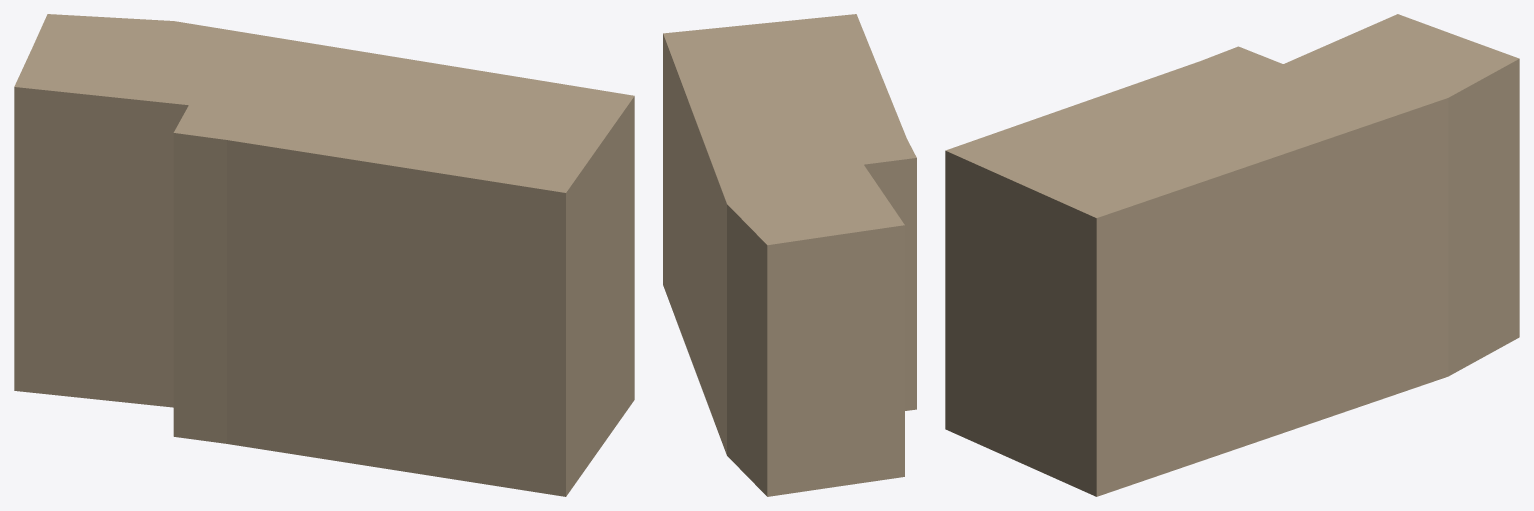
File: bld_99007828.dae
3 renders of one model, left to right at view 1: azimuth 30°, elevation 25°; view 2: azimuth 150°, elevation 25°; view 3: azimuth 270°, elevation 25°, orthographic. The views are drawn at different scales.
Visible parts, largest first — view 1: The Good Life; view 2: The Good Life; view 3: The Good Life.
Boxes of the visible parts, x1,y1,x2,y2 form: The Good Life: (14, 14, 634, 496); The Good Life: (663, 14, 916, 496); The Good Life: (945, 14, 1519, 496).
Bounding box in the file's own units: 12.57 × 14.94 × 8.
